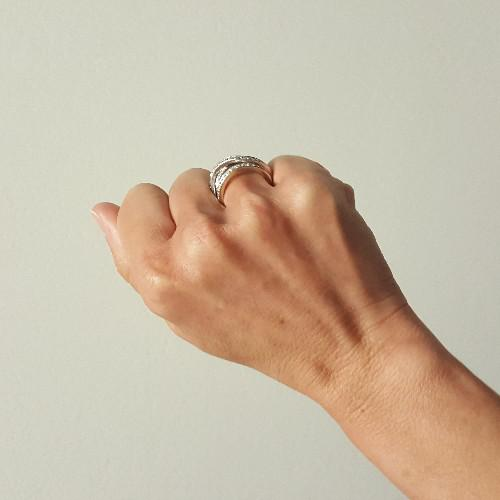rock: (82, 142, 424, 386)
